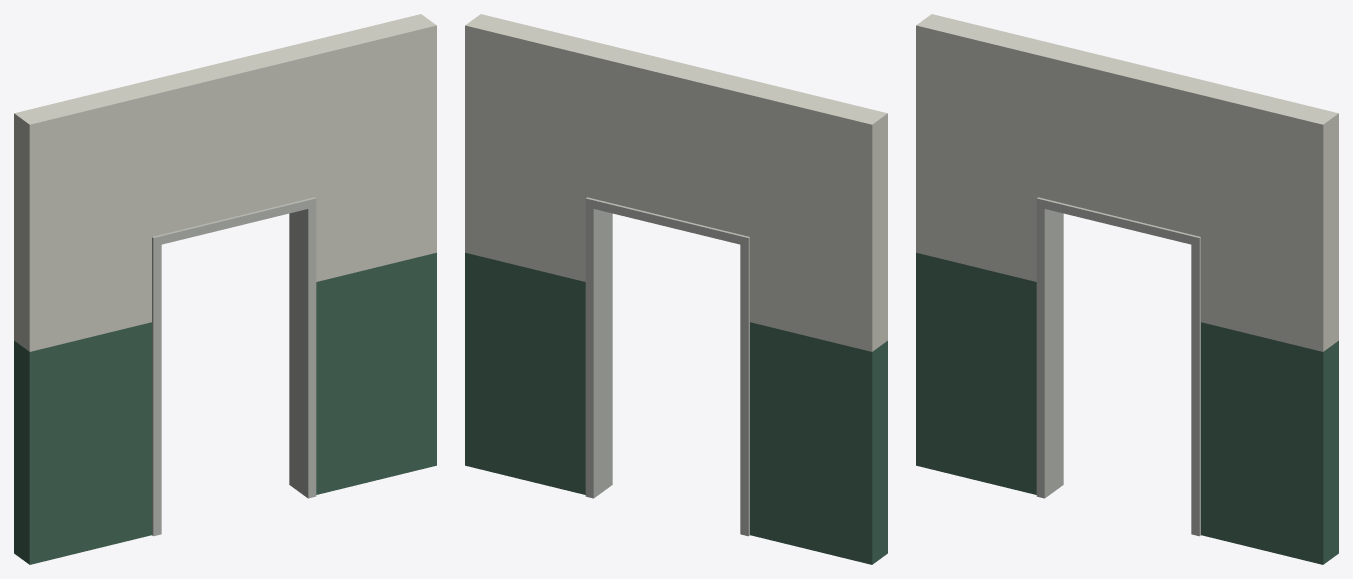
The model's file is hosp_wall_door.glb.
3 renders of one model, left to right at view 1: azimuth 30°, elevation 25°; view 2: azimuth 150°, elevation 25°; view 3: azimuth 330°, elevation 25°, orthographic.
Visible parts, largest first — view 1: hosp_wall_door-col; view 2: hosp_wall_door-col; view 3: hosp_wall_door-col.
Part boxes in pixels (box(x1,y1,x2,y2)): hosp_wall_door-col: box(14, 14, 436, 564); hosp_wall_door-col: box(465, 14, 887, 564); hosp_wall_door-col: box(916, 14, 1338, 564).
Bounding box in the file's own units: 3 × 3.1 × 0.24.
